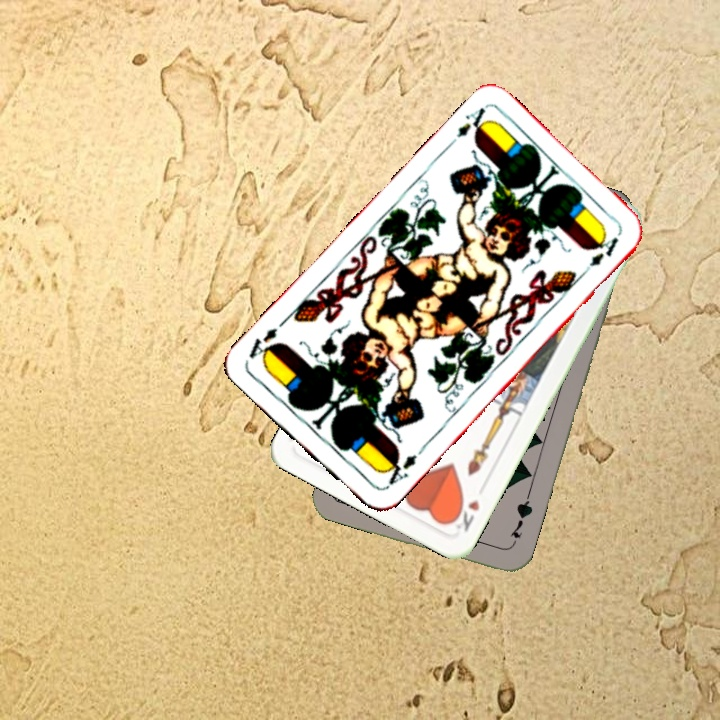EA: (443, 103, 493, 151), (378, 450, 420, 492)
G7: (505, 492, 535, 550)
HK: (446, 494, 483, 535)
